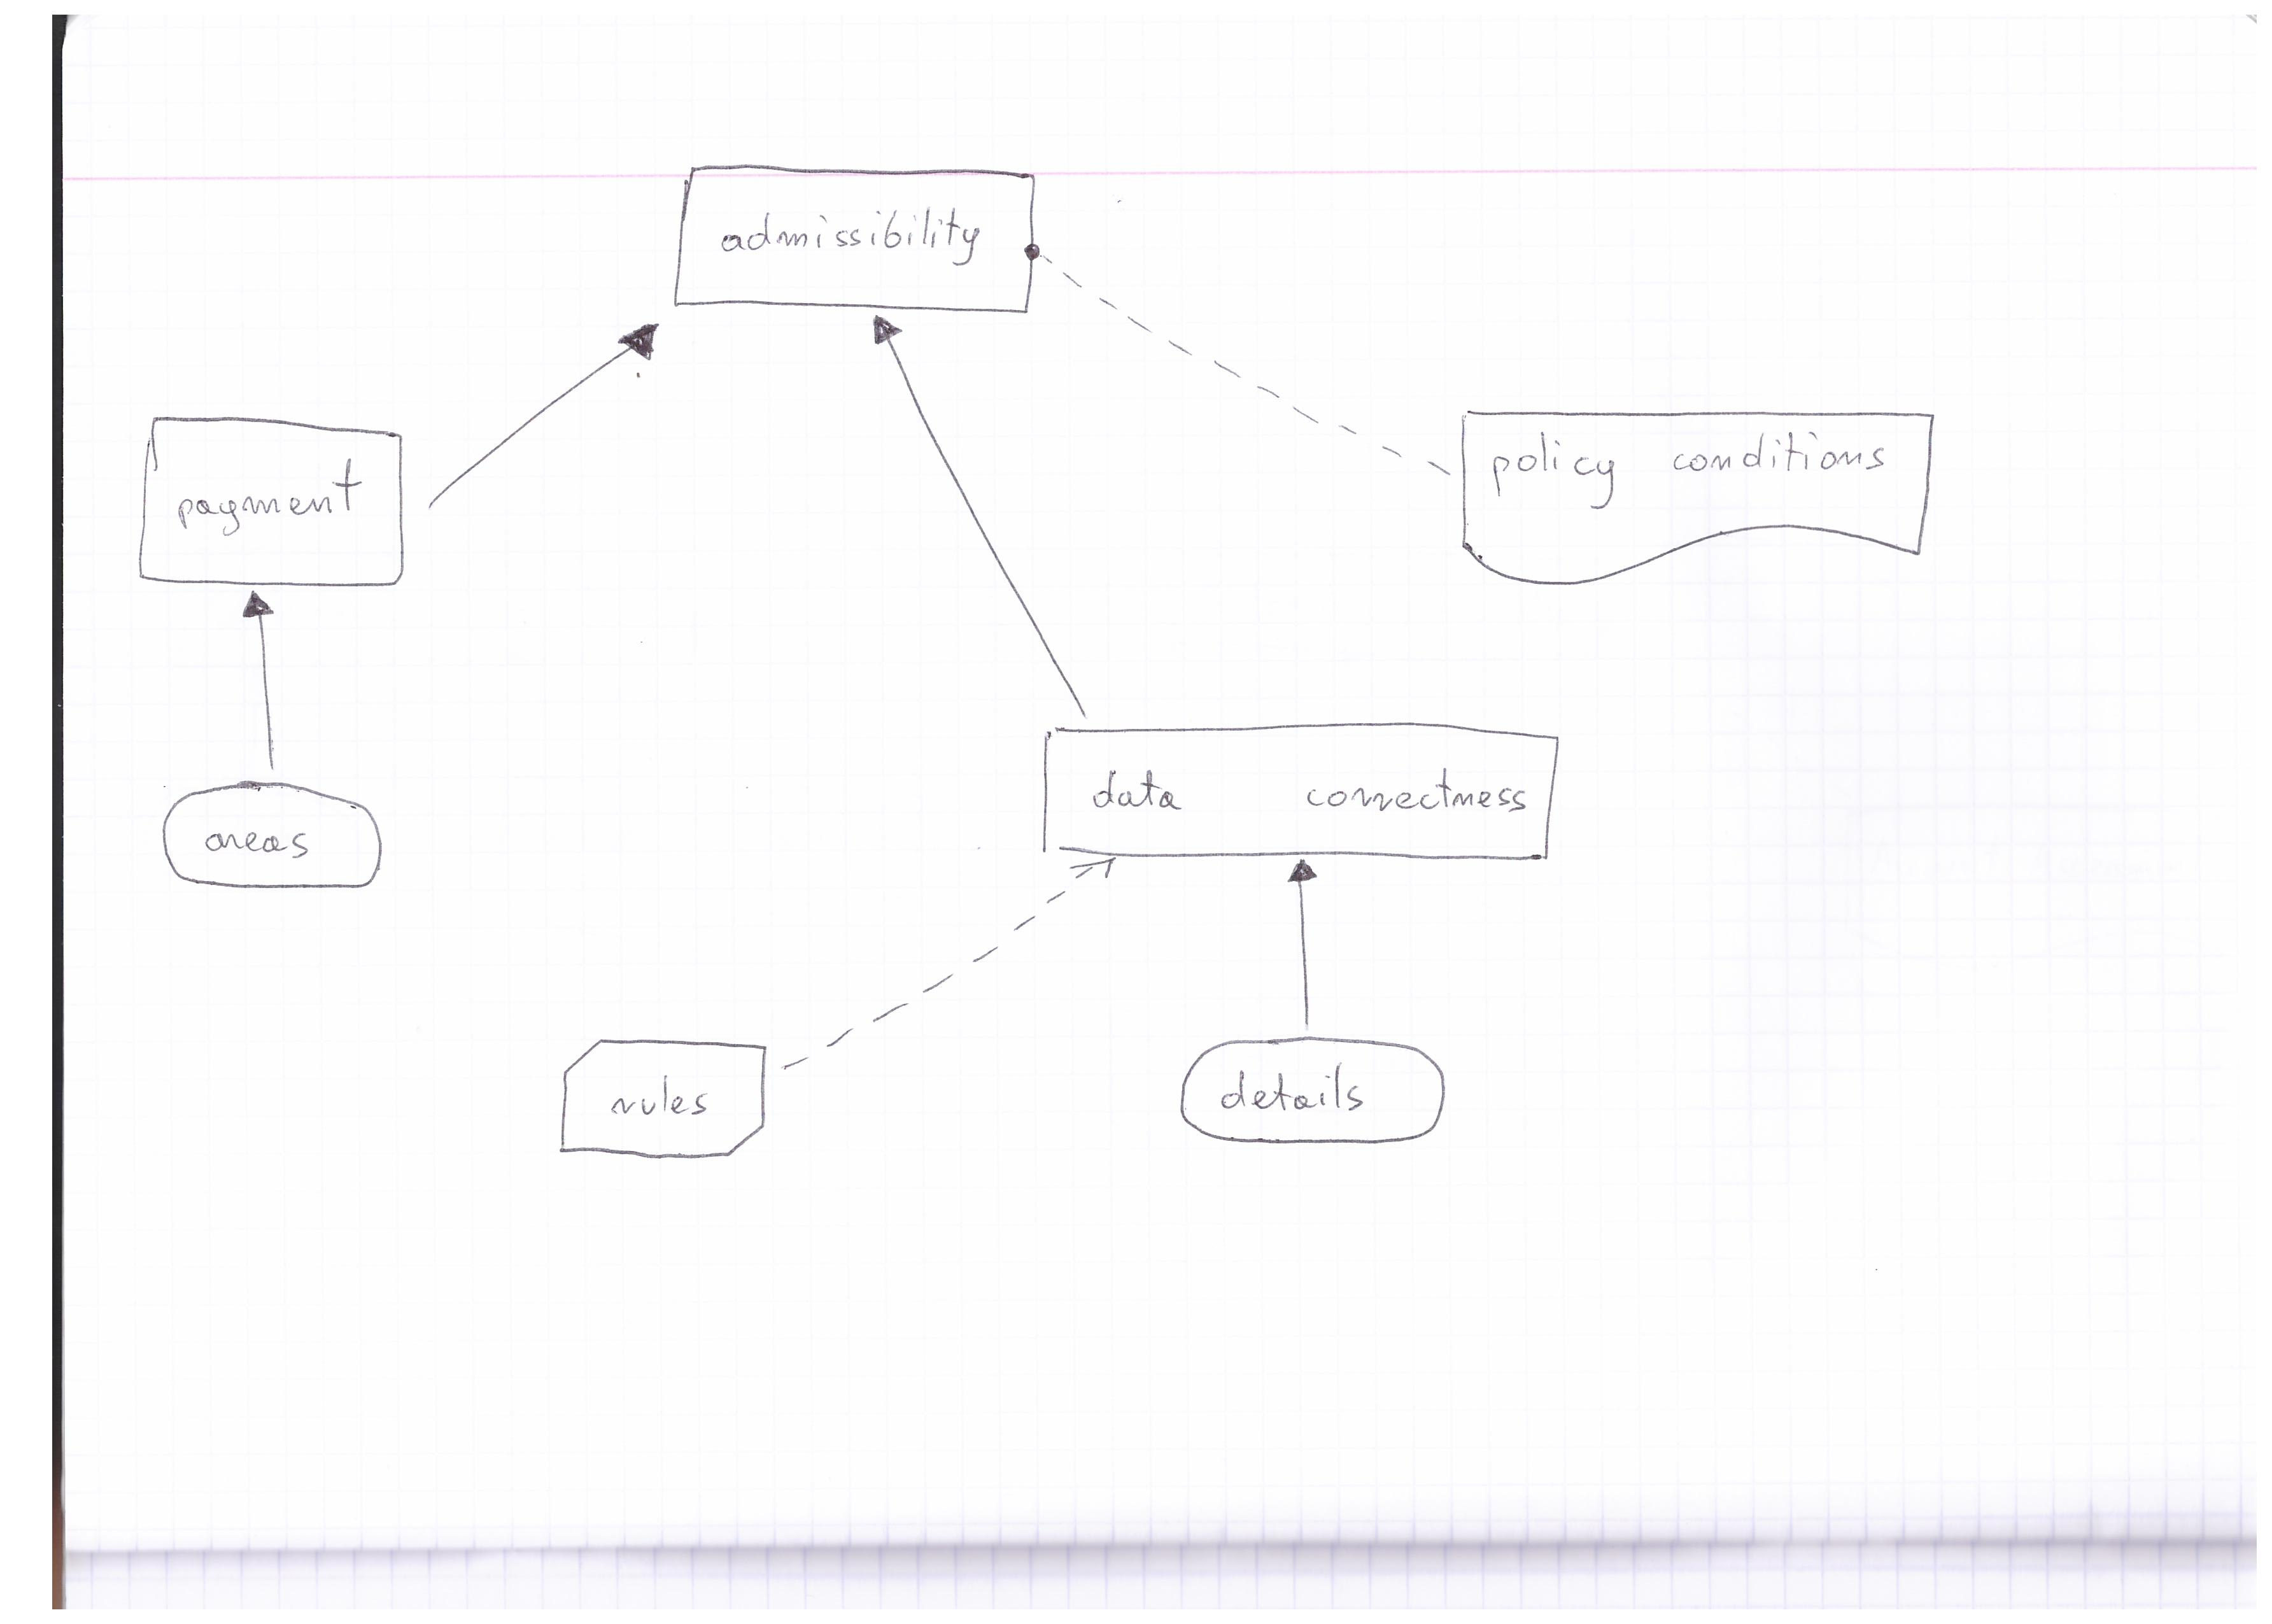arrow_authority_requirement: (1024, 241, 1457, 492)
arrow_information_requirement: (835, 311, 1116, 724), (420, 316, 678, 540), (225, 585, 299, 780)
arrow_knowledge_requirement: (771, 852, 1126, 1095)
node_decision: (1024, 717, 1571, 865), (666, 151, 1046, 325), (125, 406, 411, 589)
node_input_data: (1154, 1033, 1472, 1155), (149, 775, 395, 905)
node_knowledge_model: (541, 1032, 775, 1171)
node_knowledge_source: (1451, 397, 1954, 594)
text: (1481, 418, 1912, 518), (1075, 749, 1538, 831), (712, 185, 998, 281), (167, 453, 380, 548), (1211, 1055, 1386, 1132), (188, 807, 343, 877), (592, 1067, 727, 1135)
